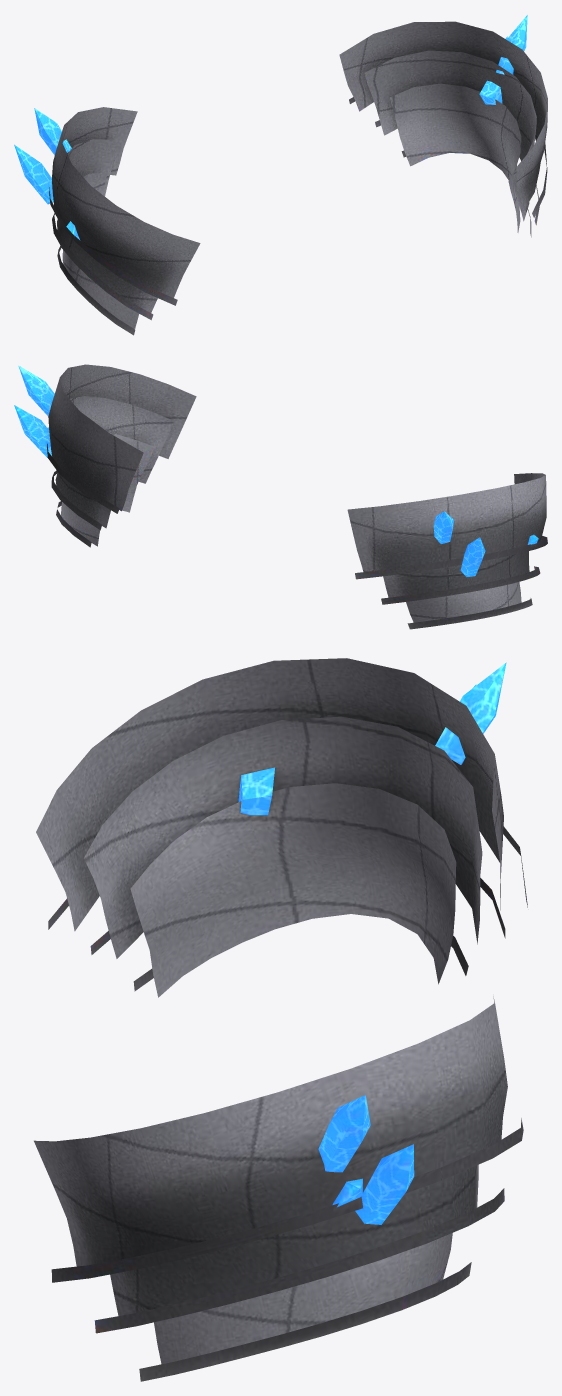
Rendered from Ombreiras_de_Energia_nivel50.glb.
3 views of the same model, one above another, from view 1: azimuth 30°, elevation 25°; view 2: azimuth 150°, elevation 25°; view 3: azimuth 270°, elevation 25° (orthographic). The views are drawn at different scales.
Parts seen in each view (by area): view 1: ombreiras_de_energia_nivel50; view 2: ombreiras_de_energia_nivel50; view 3: ombreiras_de_energia_nivel50.
Part boxes in pixels (box(x1,y1,x2,y2)): ombreiras_de_energia_nivel50: box(14, 15, 547, 335); ombreiras_de_energia_nivel50: box(14, 364, 547, 629); ombreiras_de_energia_nivel50: box(34, 658, 527, 1381).
Bounding box in the file's own units: 0.6296 × 0.2082 × 0.2759.
Materials: 1 (1 with a texture image).
